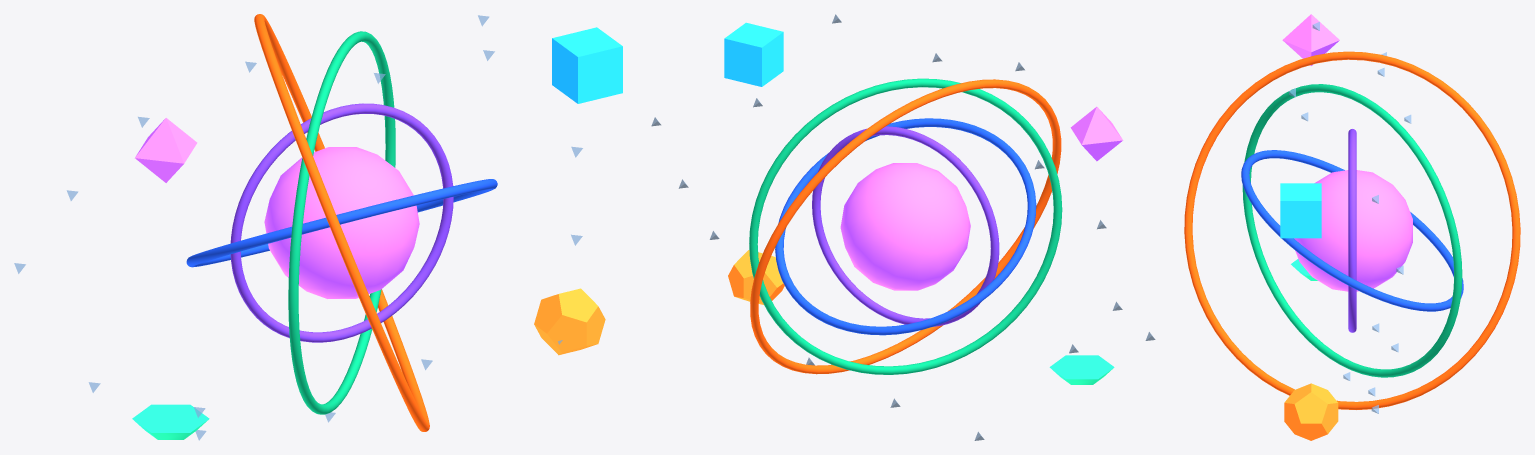
File: hero-scene.glb
3 views of the same model, side by side, from view 1: azimuth 30°, elevation 25°; view 2: azimuth 150°, elevation 25°; view 3: azimuth 270°, elevation 25° (orthographic). The views are drawn at different scales.
Visible parts, largest first — view 1: central_core, satellite_programming, satellite_iot, satellite_ai, satellite_cybersecurity; view 2: central_core, satellite_programming, satellite_ai, satellite_iot, satellite_cybersecurity; view 3: central_core, satellite_iot, satellite_programming, satellite_ai.
Boxes of the visible parts, x1,y1,x2,y2 form: central_core: [186, 14, 497, 431]; satellite_programming: [552, 27, 622, 103]; satellite_iot: [534, 288, 605, 355]; satellite_ai: [135, 118, 197, 182]; satellite_cybersecurity: [132, 404, 209, 439]; central_core: [749, 78, 1062, 374]; satellite_programming: [724, 22, 783, 86]; satellite_ai: [1070, 106, 1122, 161]; satellite_iot: [728, 250, 784, 304]; satellite_cybersecurity: [1049, 355, 1114, 384]; central_core: [1184, 51, 1520, 409]; satellite_iot: [1284, 383, 1338, 440]; satellite_programming: [1280, 183, 1321, 238]; satellite_ai: [1282, 14, 1339, 65].
Size of the model in its own units: 5.01 by 3.51 by 3.26.
